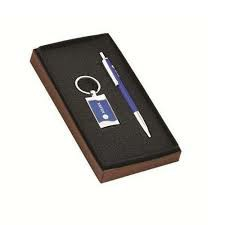pen: (97, 49, 151, 137)
